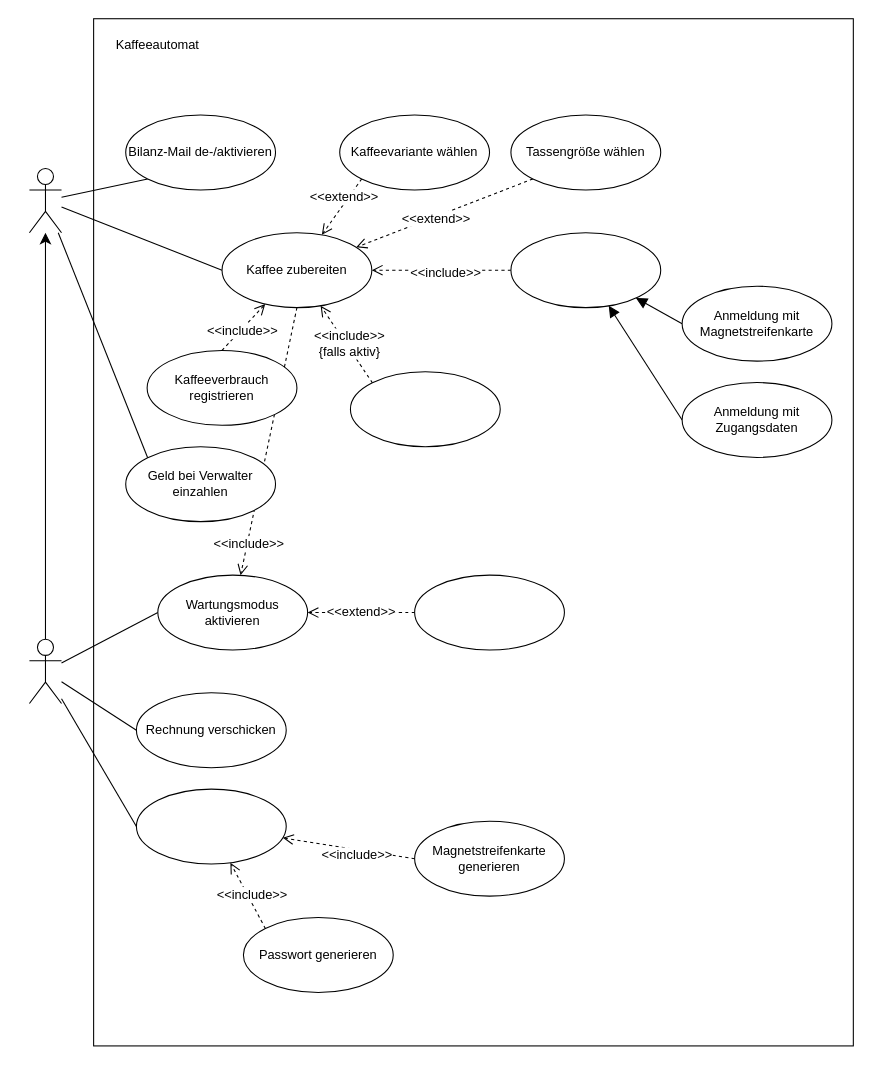
Some shapes in this 872 by 1065 pixel diagram are drawn without their labels. The shapes that lost their labels are listed below. From the top down, each one's box as (x1, y1, x2, y2) in pixels, then its label:
(28, 167, 62, 233): Benutzer
(510, 232, 661, 308): Authentifizieren
(349, 371, 500, 447): Bilanz-Mail senden
(414, 574, 564, 650): Preise einstellen
(28, 638, 62, 704): Verwalter
(135, 788, 286, 864): Benutzer anlegen
